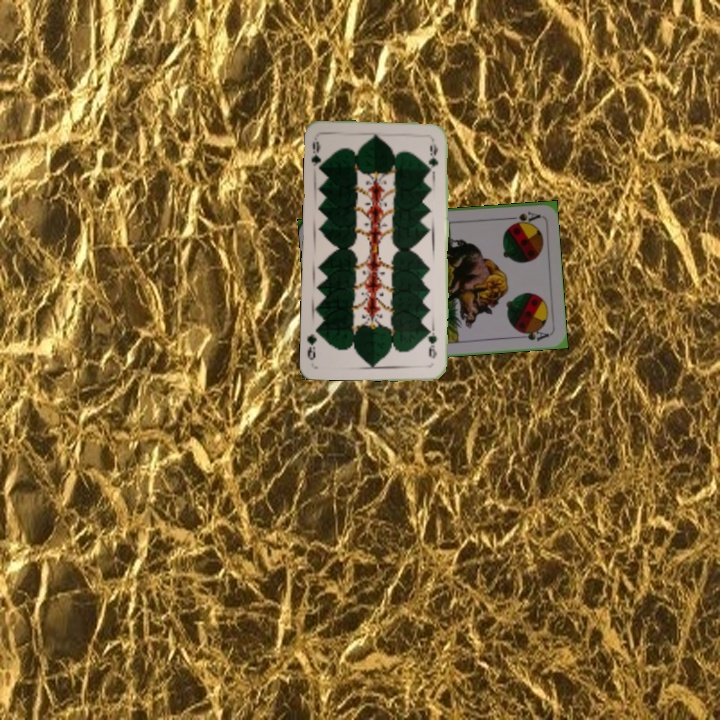G9: (307, 134, 326, 175), (424, 325, 440, 361)
SA: (501, 207, 542, 226)
